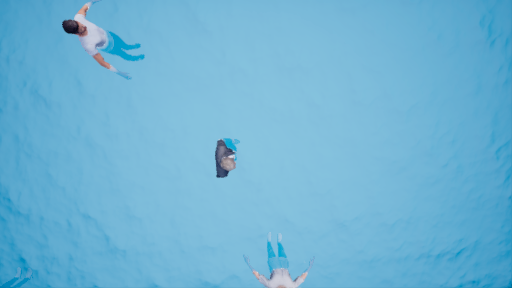person: (57, 1, 156, 83), (233, 230, 323, 288), (202, 122, 248, 181)
